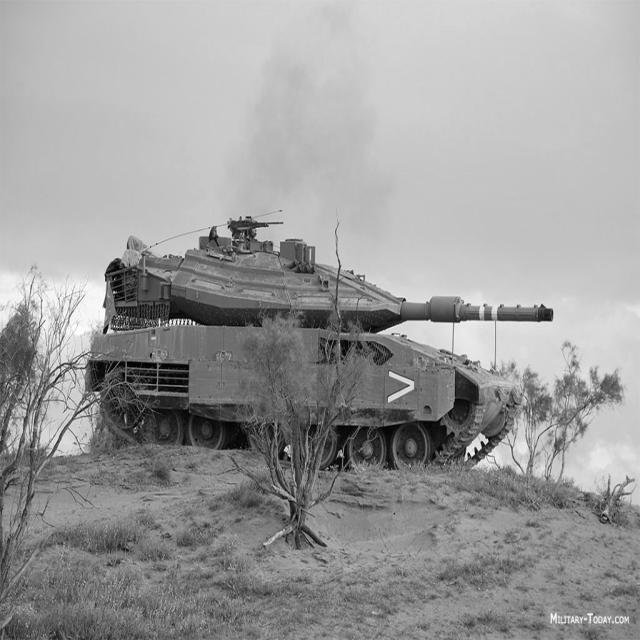Tank: (78, 197, 562, 447)
Tree: (0, 267, 99, 604), (234, 309, 368, 551), (501, 344, 627, 487)
